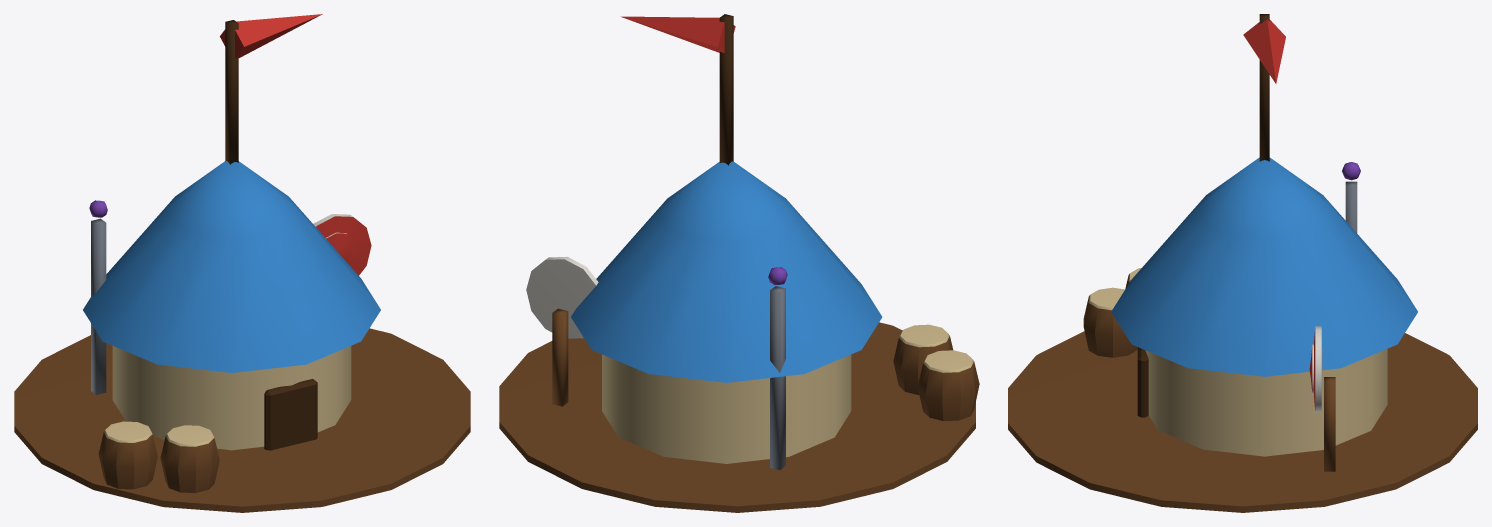
3 views of the same model, side by side, from view 1: azimuth 30°, elevation 25°; view 2: azimuth 150°, elevation 25°; view 3: azimuth 270°, elevation 25° (orthographic). The views are drawn at different scales.
Visible parts, largest first — view 1: vila_0_base; view 2: vila_0_base; view 3: vila_0_base.
Part boxes in pixels (left/top/right/bottom): vila_0_base: left=14, top=14, right=470, bottom=512; vila_0_base: left=499, top=14, right=979, bottom=512; vila_0_base: left=1008, top=14, right=1477, bottom=512.
Bounding box in the file's own units: 1.32 × 1.21 × 1.3.
